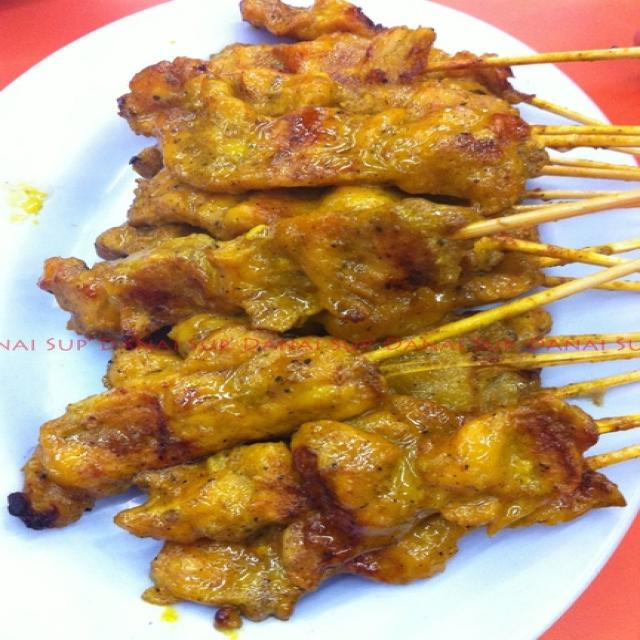牛肉菜式: (42, 16, 608, 616)
